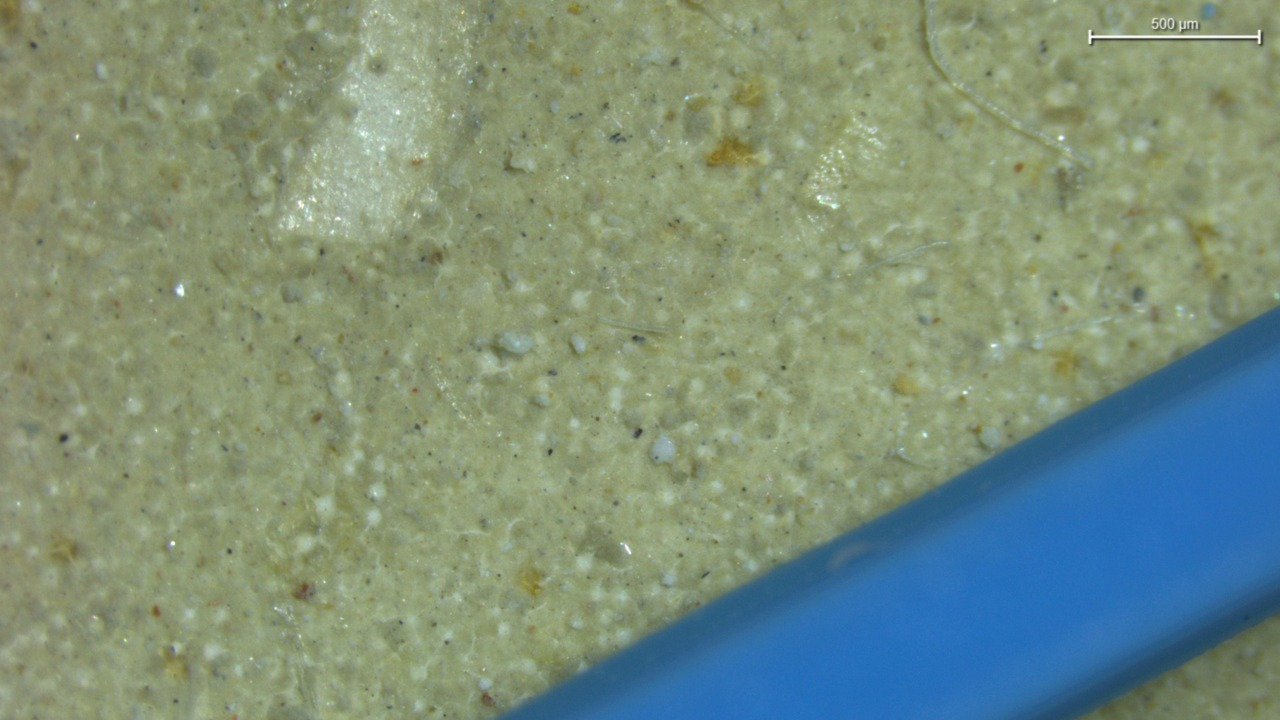microplastic_fragment: (497, 331, 533, 355), (650, 433, 676, 463), (509, 157, 537, 173), (570, 333, 587, 354)
